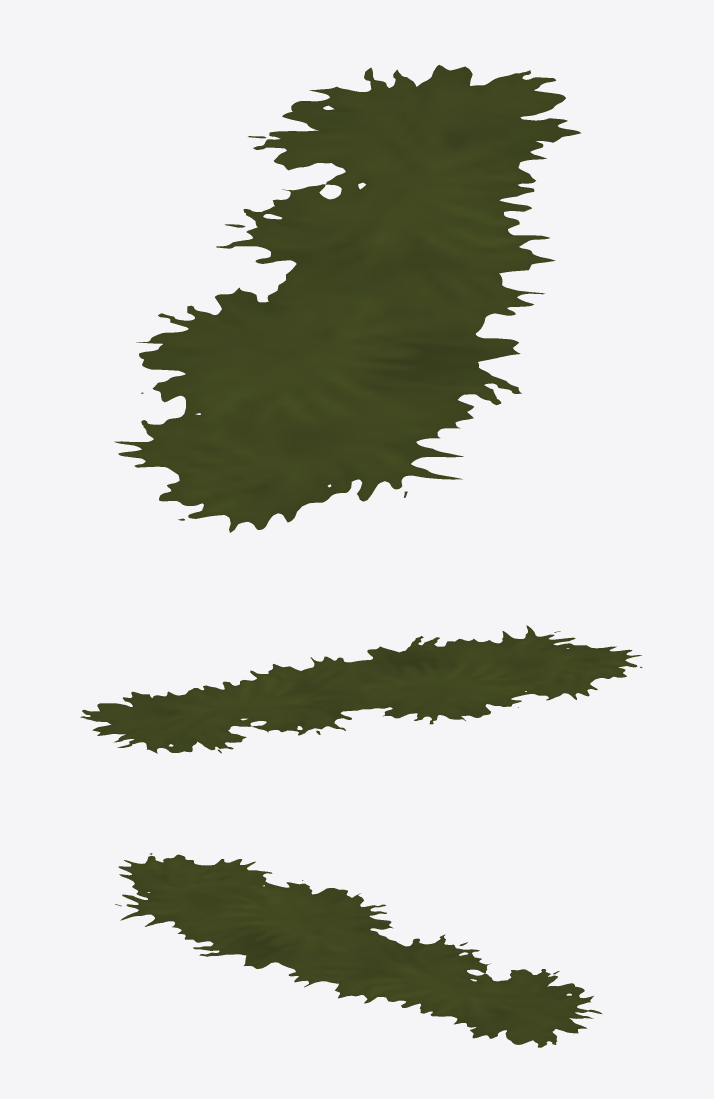
File: Ground_Decal_grass1.fbx
The picture shows the model from 3 angles, top to bottom: view 1: azimuth 30°, elevation 25°; view 2: azimuth 150°, elevation 25°; view 3: azimuth 270°, elevation 25°; orthographic projection. The views are drawn at different scales.
Visible parts, largest first — view 1: Ground_Decal_grass1; view 2: Ground_Decal_grass1; view 3: Ground_Decal_grass1.
Boxes of the visible parts, box(x1,y1,x2,y2) form: Ground_Decal_grass1: box(114, 65, 580, 532); Ground_Decal_grass1: box(80, 625, 642, 753); Ground_Decal_grass1: box(115, 853, 602, 1047).
Bounding box in the file's own units: 360 × 0 × 389.
Materials: 1 (1 with a texture image).
